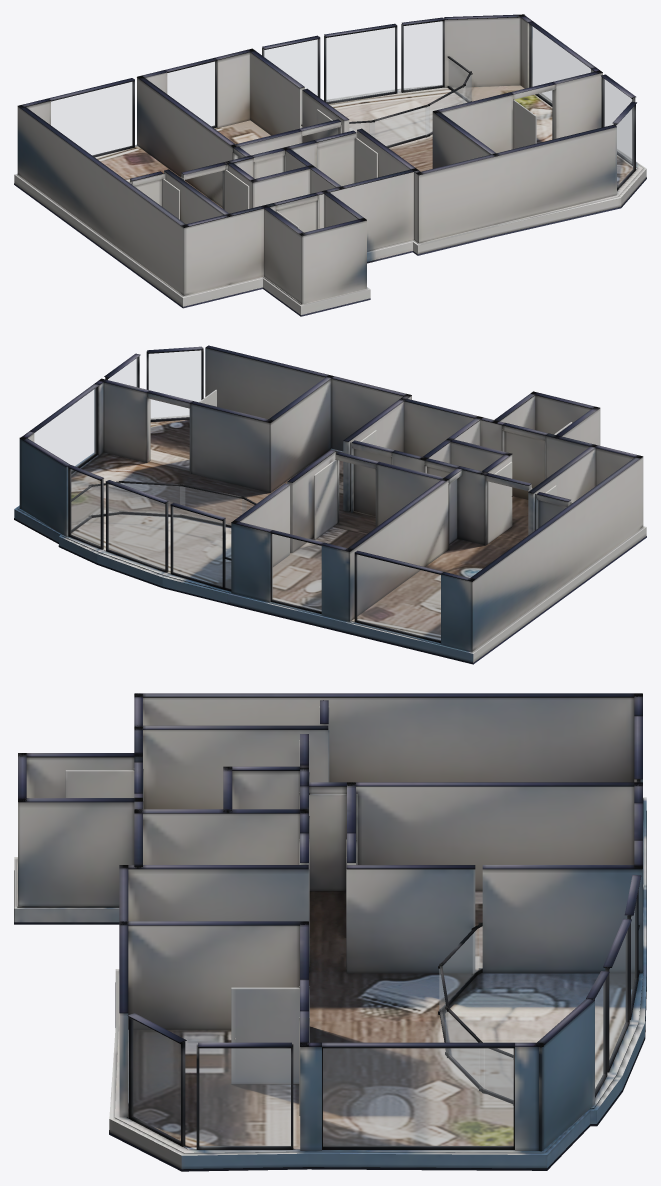
The picture shows the model from 3 angles, top to bottom: view 1: azimuth 30°, elevation 25°; view 2: azimuth 150°, elevation 25°; view 3: azimuth 270°, elevation 25°; orthographic projection. The views are drawn at different scales.
Visible parts, largest first — view 1: plan, glass6_m, glass0_m, glass7_m, glass1_m, glass3_m, glass5_m, railg5_m, glass2_m, glass4_m, railg4_m, railg1_m; view 2: plan, glass0_m, glass6_m, glass1_m, glass5_m, glass4_m, glass3_m, glass7_m, railg5_m, railg4_m, railg3_m, railg1_m (+1 smaller); view 3: plan, glass3_m, glass2_m, glass4_m, glass6_m, railg6_m, railg3_m, railg4_m, glass7_m.
Part boxes in pixels (box(x1,y1,x2,y2)): plan: box(14, 14, 646, 316); glass6_m: box(326, 27, 395, 101); glass0_m: box(51, 82, 132, 155); glass7_m: box(404, 21, 442, 90); glass1_m: box(167, 62, 215, 126); glass3_m: box(531, 25, 590, 103); glass5_m: box(264, 39, 317, 95); railg5_m: box(370, 106, 429, 145); glass2_m: box(603, 79, 631, 162); glass4_m: box(616, 107, 633, 187); railg4_m: box(426, 86, 465, 134); railg1_m: box(449, 59, 471, 101); plan: box(14, 345, 646, 664); glass0_m: box(357, 555, 440, 640); glass6_m: box(108, 484, 164, 569); glass1_m: box(272, 534, 321, 611); glass5_m: box(173, 507, 222, 586); glass4_m: box(149, 350, 201, 419); glass3_m: box(34, 388, 95, 470); glass7_m: box(70, 469, 100, 546); railg5_m: box(180, 486, 245, 524); railg4_m: box(121, 483, 184, 514); railg3_m: box(92, 483, 123, 514); railg1_m: box(72, 488, 90, 529); plan: box(14, 693, 646, 1171); glass3_m: box(323, 1048, 513, 1146); glass2_m: box(199, 1048, 290, 1146); glass4_m: box(132, 1019, 180, 1141); glass6_m: box(609, 932, 627, 1062); railg6_m: box(439, 930, 477, 1011); railg3_m: box(480, 1049, 512, 1099); railg4_m: box(446, 1010, 483, 1088); glass7_m: box(595, 982, 604, 1091).
Size of the model in its own units: 16.63 by 2.62 by 12.4.
Materials: 2 (1 with a texture image).
